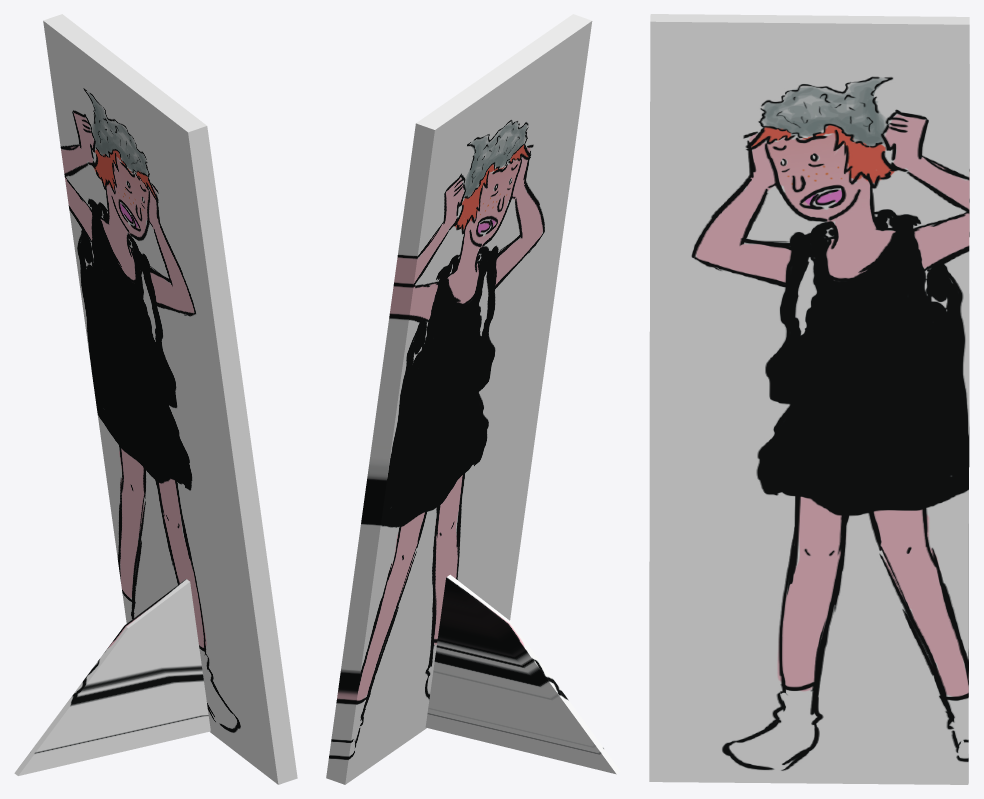
Rendered from swede.fbx.
The picture shows the model from 3 angles, left to right: view 1: azimuth 30°, elevation 25°; view 2: azimuth 150°, elevation 25°; view 3: azimuth 270°, elevation 25°; orthographic projection. The views are drawn at different scales.
Parts seen in each view (by area): view 1: Cube; view 2: Cube; view 3: Cube.
Part boxes in pixels (x1,y1,x2,y2): Cube: [14, 14, 297, 784]; Cube: [326, 14, 620, 784]; Cube: [649, 14, 969, 784].
Size of the model in its own units: 1.16 by 3.5 by 1.42.
